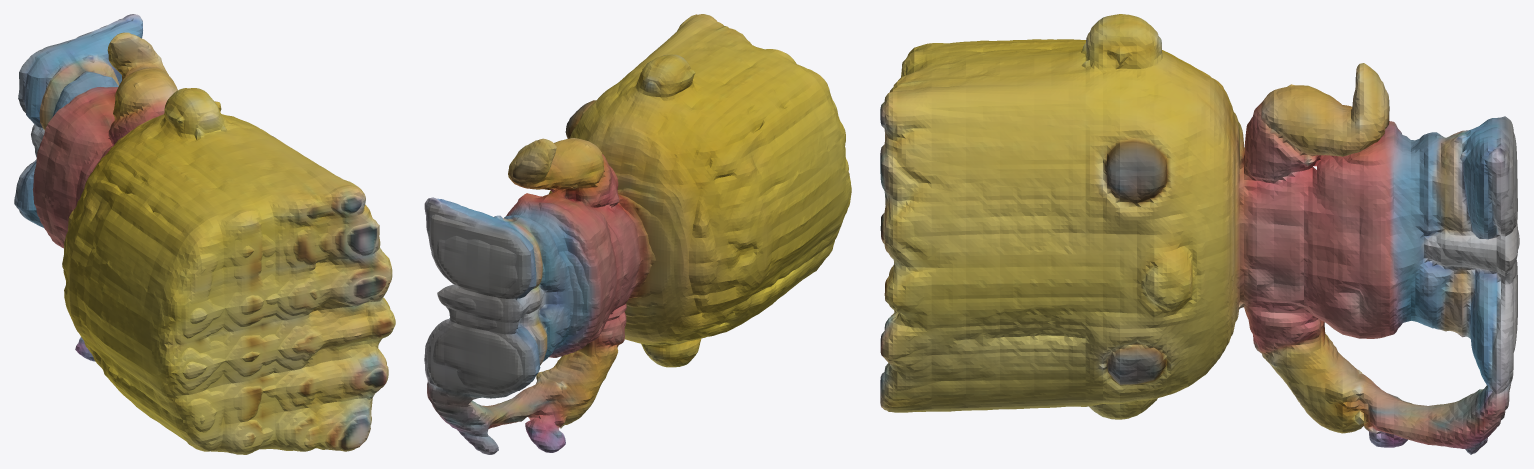
File: bartskatside.glb
The picture shows the model from 3 angles, left to right: view 1: azimuth 30°, elevation 25°; view 2: azimuth 150°, elevation 25°; view 3: azimuth 270°, elevation 25°; orthographic projection. The views are drawn at different scales.
Parts seen in each view (by area): view 1: world; view 2: world; view 3: world.
Part boxes in pixels (x1,y1,x2,y2): world: [14, 14, 395, 454]; world: [424, 14, 851, 454]; world: [880, 14, 1519, 454].
Bounding box in the file's own units: 0.5092 × 0.7345 × 1.02.
